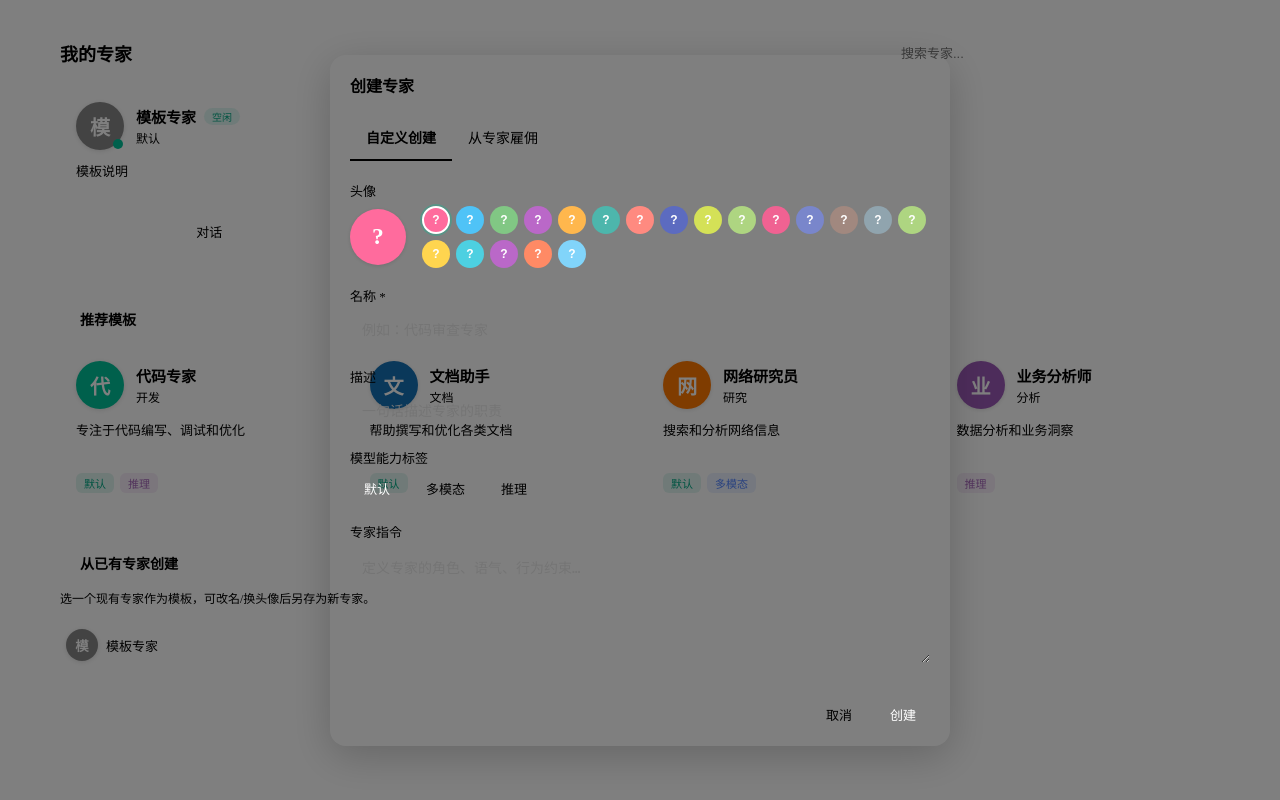
Test: 从对话创建专家 › 从已有专家雇佣后将新草稿填入当前编辑器并回到名称字段
This screenshot has width=1280, height=800.
Expected: the dialog "创建专家" is shown, [330,54,950,746]
Click the button "从专家雇佣" at (503, 138), box [452,114,554,160]
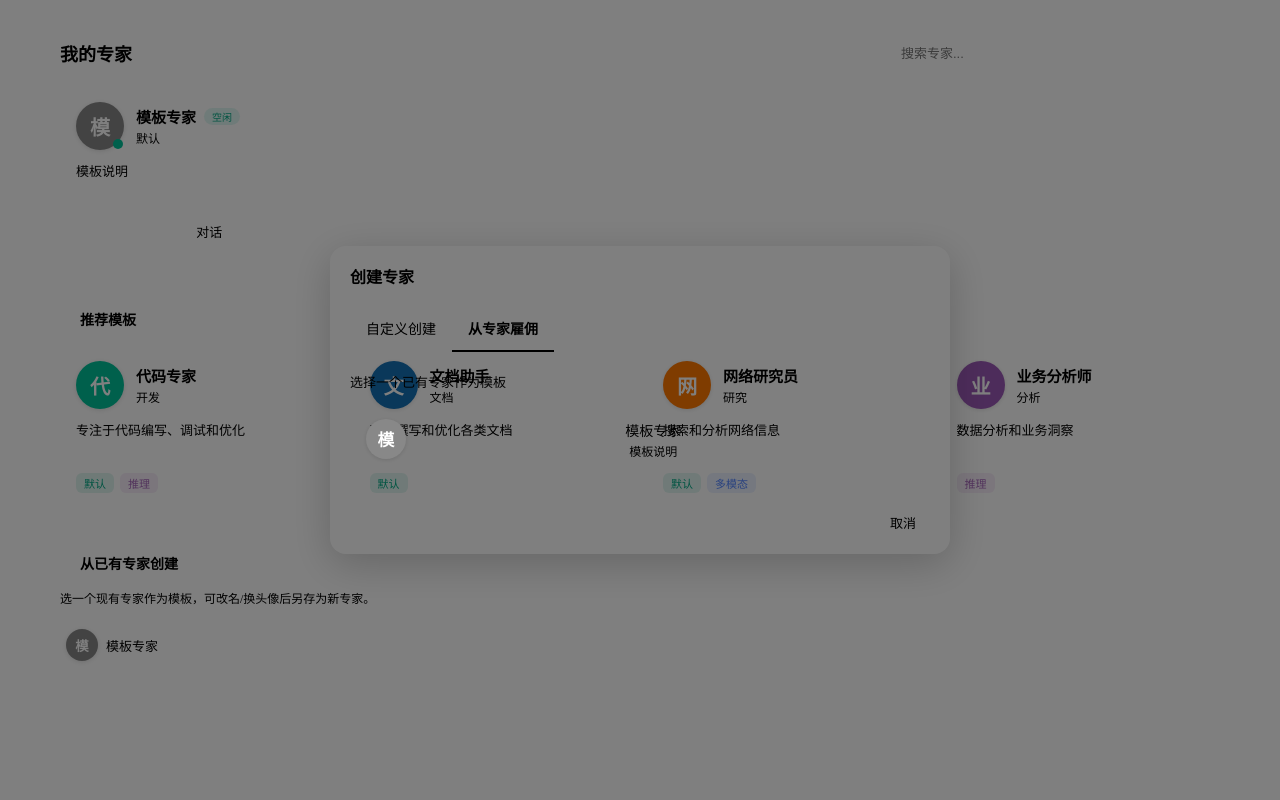
Click the button "模 模板专家 模板说明" at (640, 439), box [350,407,930,471]
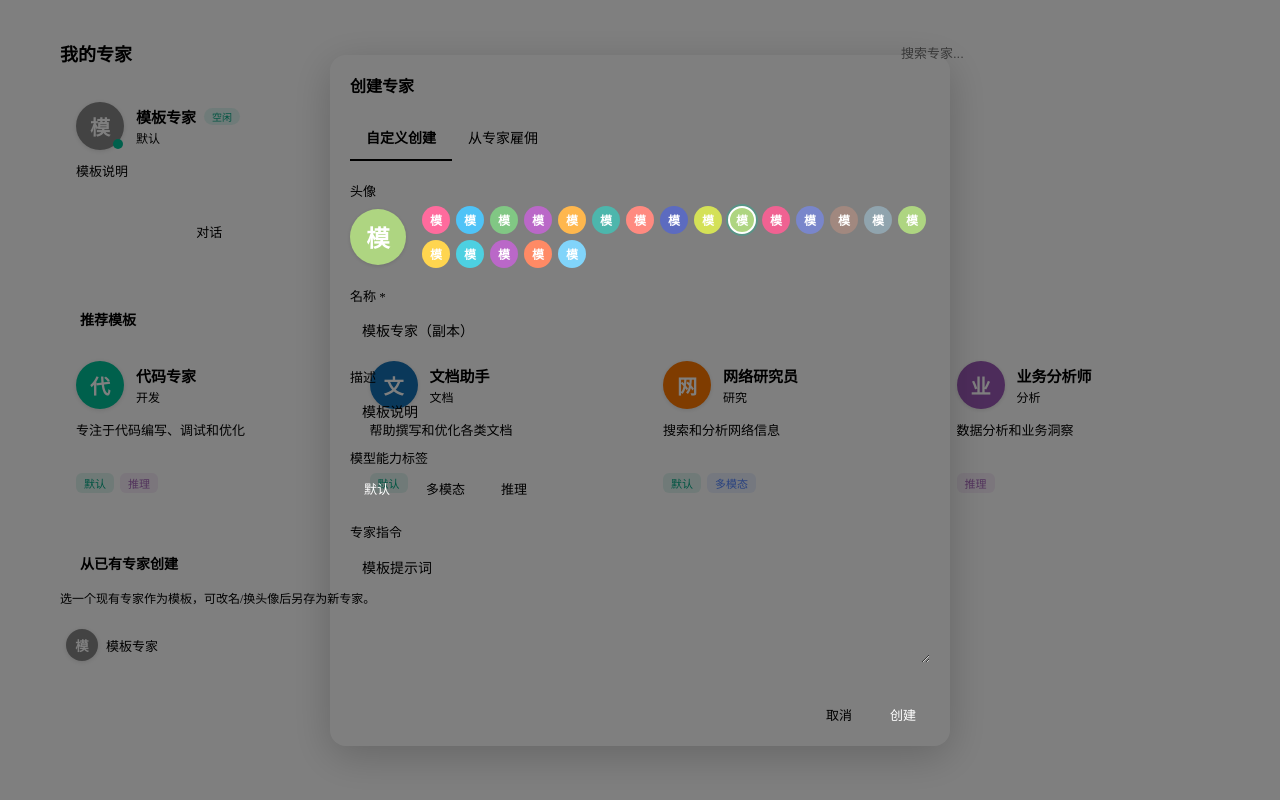
Expected: the field named "专家名称" holds "模板专家（副本）", [350,310,930,348]
Expected: the text box named "专家指令" holds "模板提示词", [350,546,930,662]
